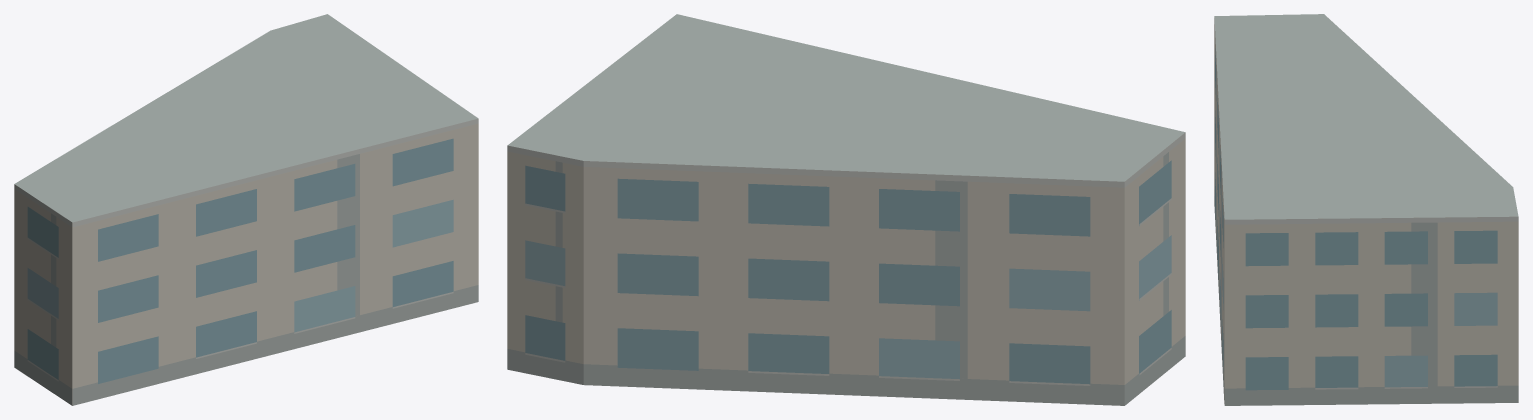
File: survey-upis-32634198.glb
3 renders of one model, left to right at view 1: azimuth 30°, elevation 25°; view 2: azimuth 150°, elevation 25°; view 3: azimuth 270°, elevation 25°, orthographic. The views are drawn at different scales.
Parts seen in each view (by area): view 1: survey-upis-32634198.tmp; view 2: survey-upis-32634198.tmp; view 3: survey-upis-32634198.tmp.
Part boxes in pixels (box(x1,y1,x2,y2)): survey-upis-32634198.tmp: box(14, 14, 478, 405); survey-upis-32634198.tmp: box(507, 14, 1185, 405); survey-upis-32634198.tmp: box(1214, 14, 1518, 405).
Bounding box in the file's own units: 21.7 × 9.15 × 13.56.
